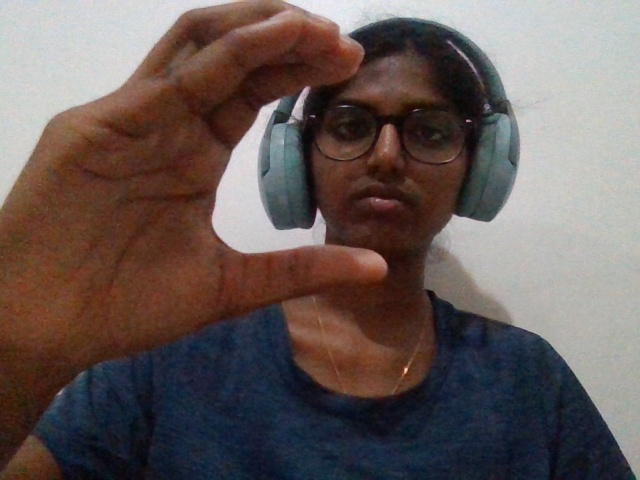C: (4, 3, 398, 452)
